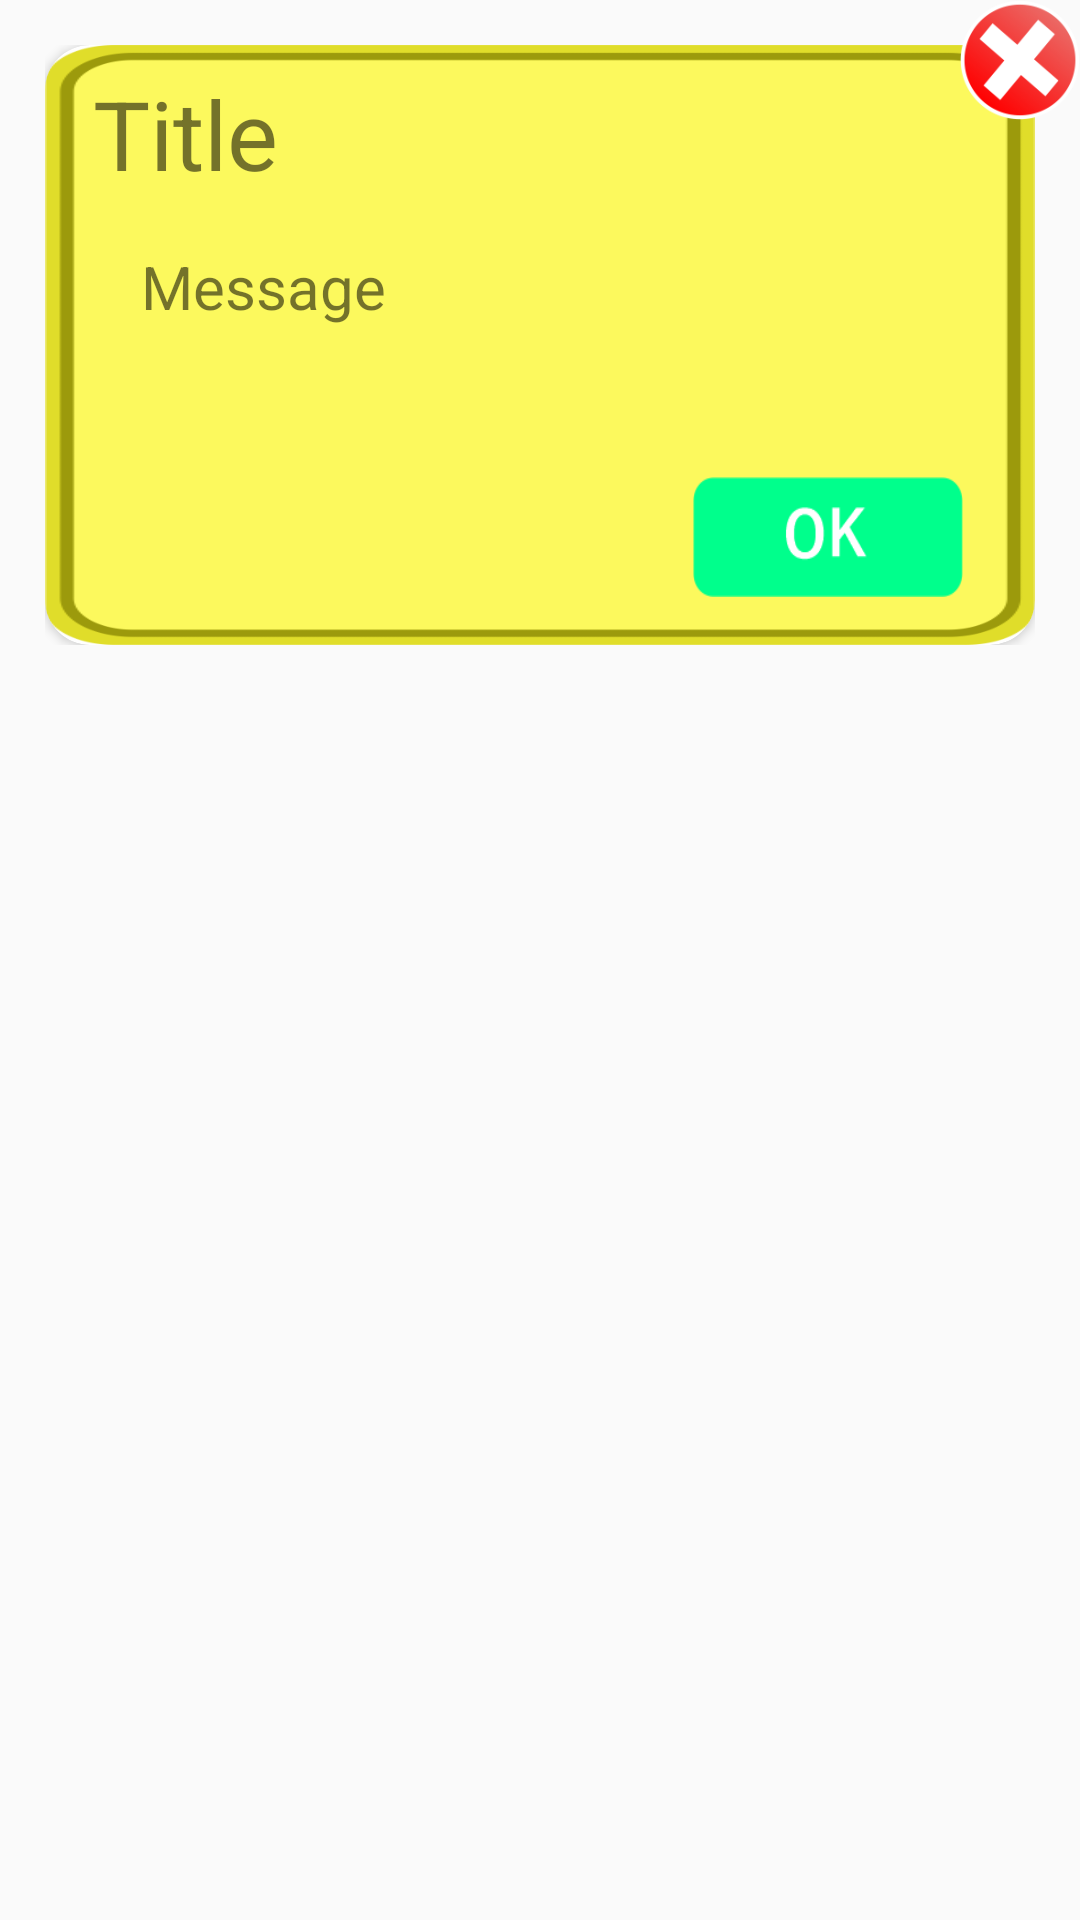

Point at icon controls on the screen. Image size 1080 × 1920, points as (x=x, y=y).
close: (x=1020, y=60)
